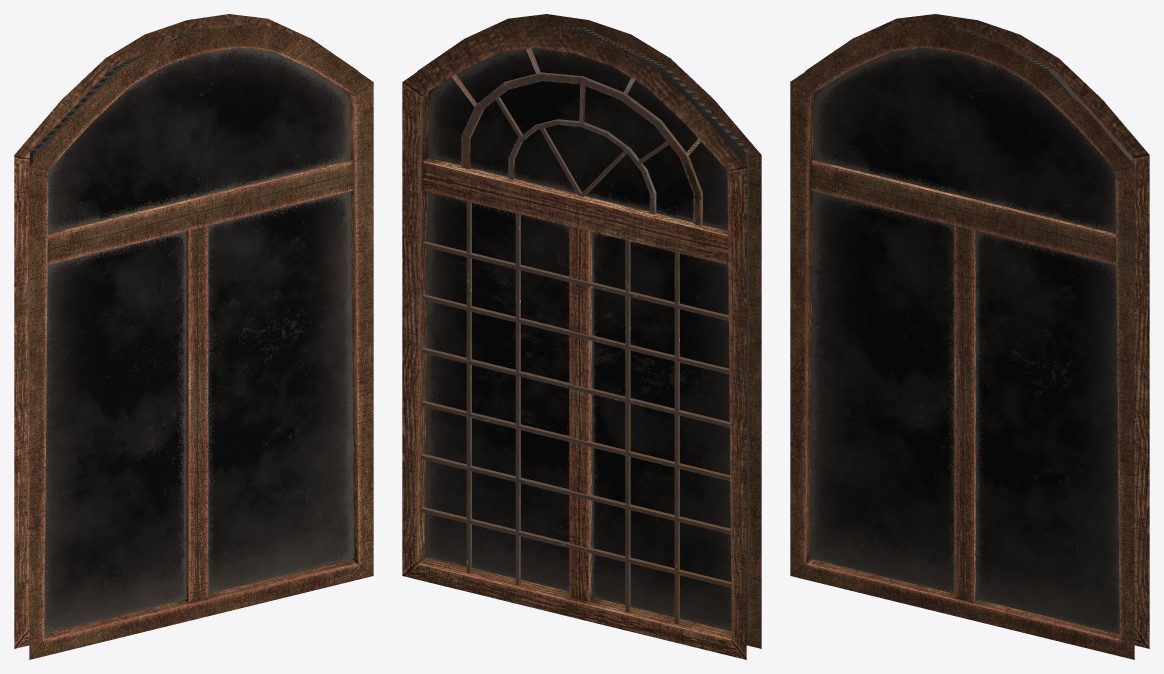
Rendered from victorian_window.glb.
3 views of the same model, side by side, from view 1: azimuth 30°, elevation 25°; view 2: azimuth 150°, elevation 25°; view 3: azimuth 330°, elevation 25° (orthographic).
Parts seen in each view (by area): view 1: glass, win; view 2: glass, win, Object009_Material #48_0; view 3: glass, win.
Part boxes in pixels (x1,y1,x2,y2): glass: (30,28,354,633); win: (14,14,373,659); glass: (424,26,748,633); win: (402,14,761,659); Object009_Material #48_0: (420,48,731,624); glass: (809,28,1133,633); win: (790,14,1149,659).
Bounding box in the file's own units: 1046 × 1703 × 78.99.
Materials: 3 (3 with a texture image).
